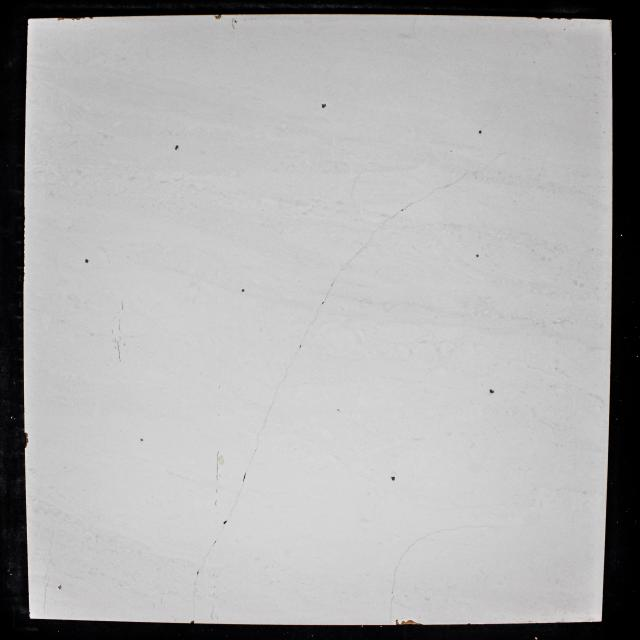edge-chipping: (395, 619, 424, 625), (24, 432, 29, 449), (57, 17, 70, 21), (71, 17, 87, 20), (214, 15, 221, 19), (190, 620, 195, 624), (88, 17, 94, 19)
hole: (489, 388, 495, 394), (390, 476, 396, 481), (174, 144, 179, 150), (321, 103, 326, 108), (85, 258, 89, 264), (58, 584, 62, 590), (223, 520, 227, 525), (476, 254, 480, 258), (478, 130, 482, 134), (241, 289, 245, 292), (234, 21, 237, 24), (337, 408, 339, 412), (140, 439, 143, 441)
line: (246, 350, 298, 471), (404, 171, 468, 209), (325, 250, 361, 301), (362, 212, 399, 250), (394, 537, 426, 576), (199, 526, 224, 569), (42, 530, 53, 612), (301, 305, 322, 343), (470, 150, 506, 172), (426, 524, 487, 536), (227, 482, 244, 519), (192, 574, 198, 618), (390, 577, 394, 624), (216, 451, 220, 481), (116, 341, 120, 361), (118, 320, 120, 332), (242, 473, 245, 481)
